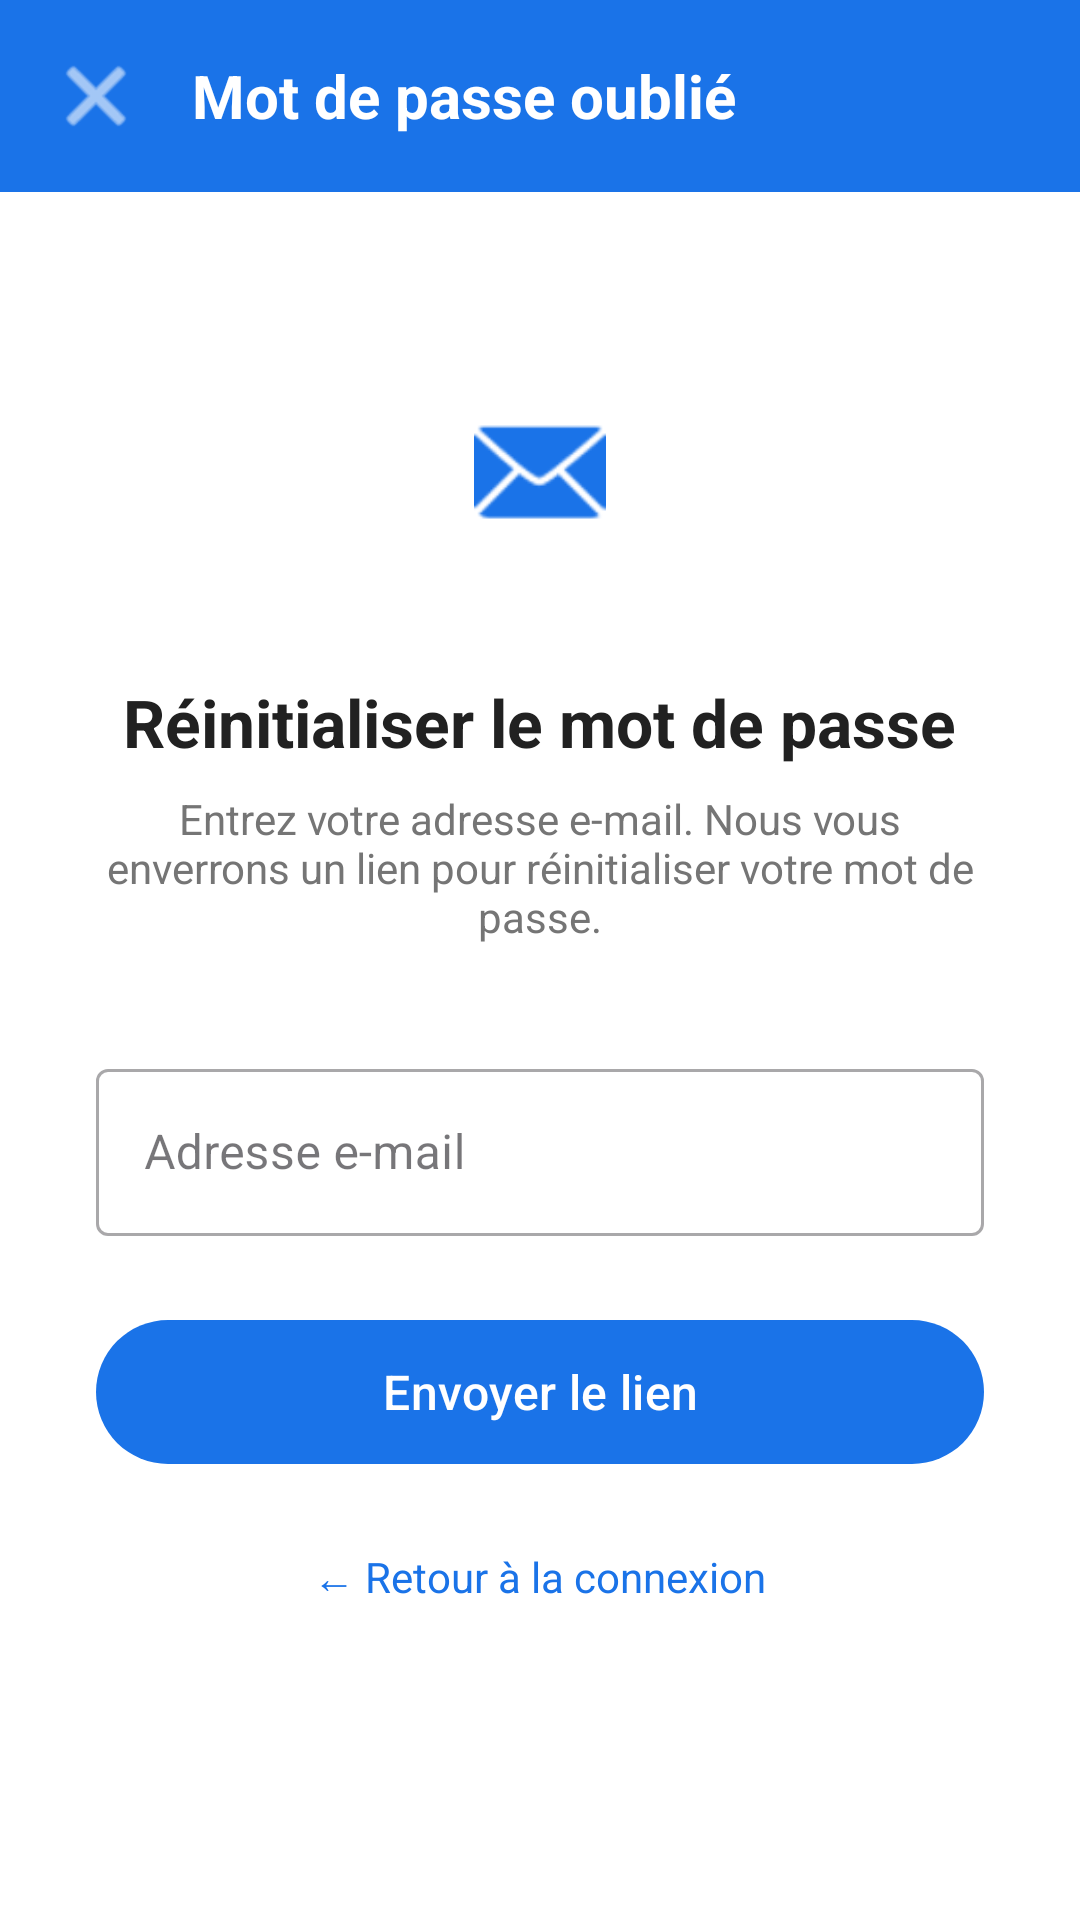

Screen size 1080w x 1920h. Icon name, then its center in pixels as [x,y]:
email: [540,472]
